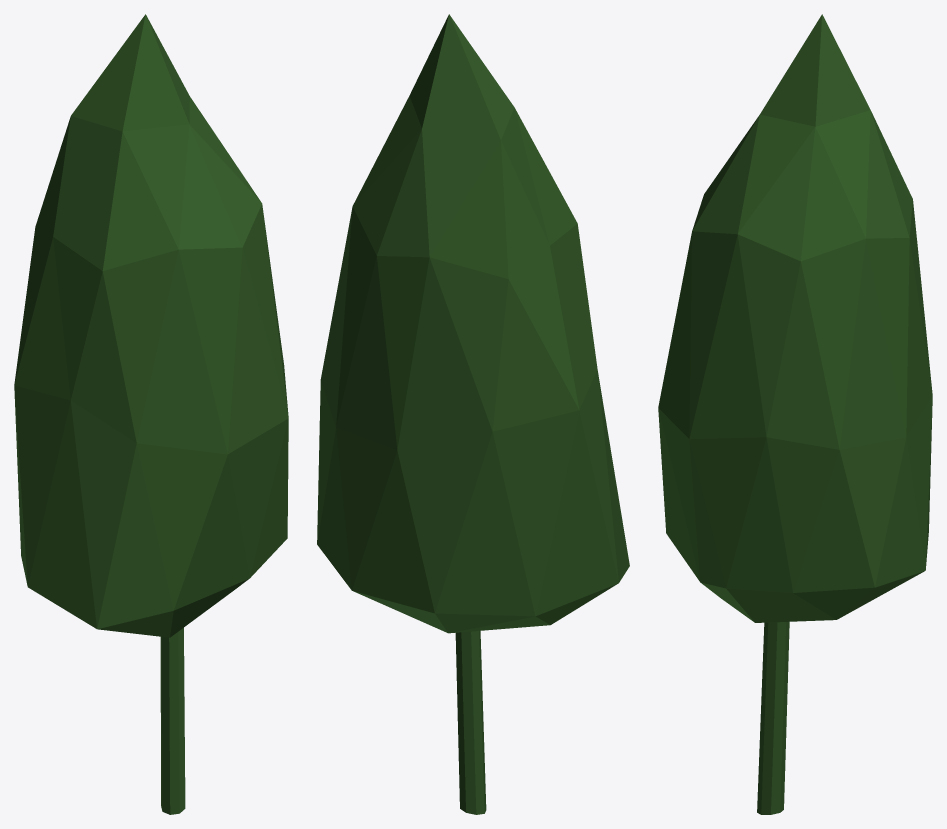
The model's file is Poplar3.FBX.
3 views of the same model, side by side, from view 1: azimuth 30°, elevation 25°; view 2: azimuth 150°, elevation 25°; view 3: azimuth 270°, elevation 25° (orthographic). The views are drawn at different scales.
Parts seen in each view (by area): view 1: Poplar3; view 2: Poplar3; view 3: Poplar3.
Part boxes in pixels (x1,y1,x2,y2): Poplar3: (14,14,288,814); Poplar3: (317,14,629,814); Poplar3: (658,14,932,814).
Size of what is drawn, in the model's own units: 260 by 238 by 764.
